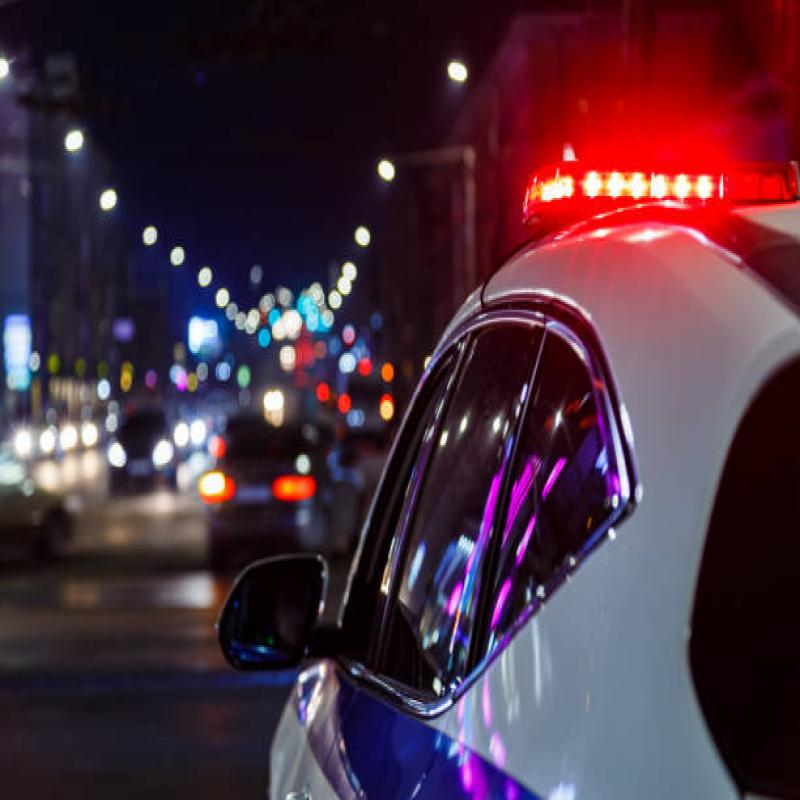AmbulanceSiren: (495, 121, 800, 257)
